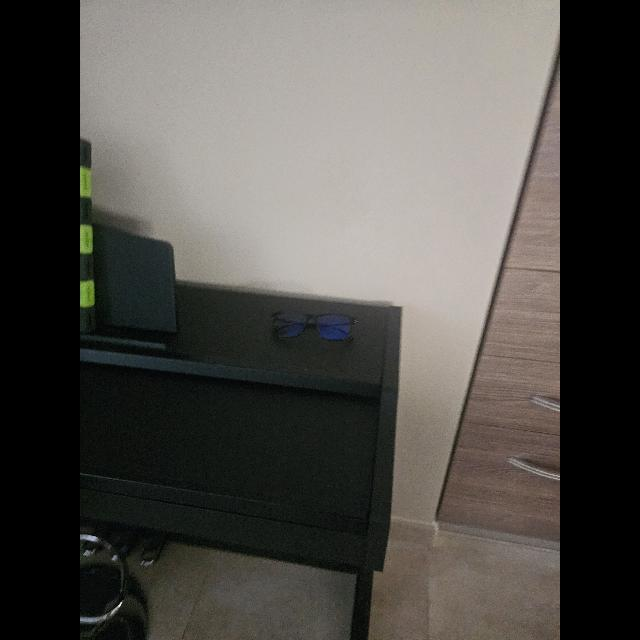glasses: (272, 312, 358, 340)
